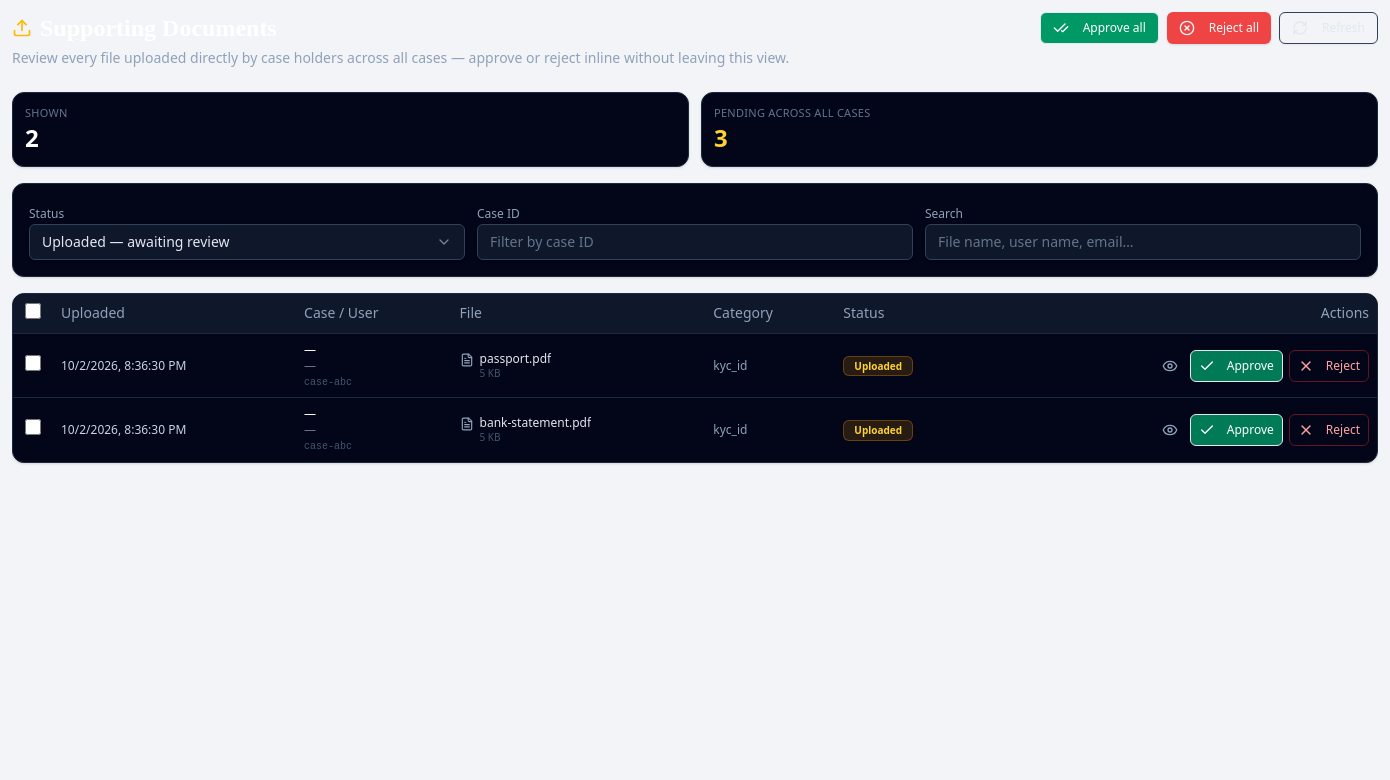
Test case: SupportingDocumentsTab – bulk reject (Task #442) › succeeded rows show rejected status and failed rows remain uploaded after partial failure (Task #924)
Click the button with test id "button-bulk-reject-supporting-docs". click: (1219, 28)
box: [1167,12,1271,44]
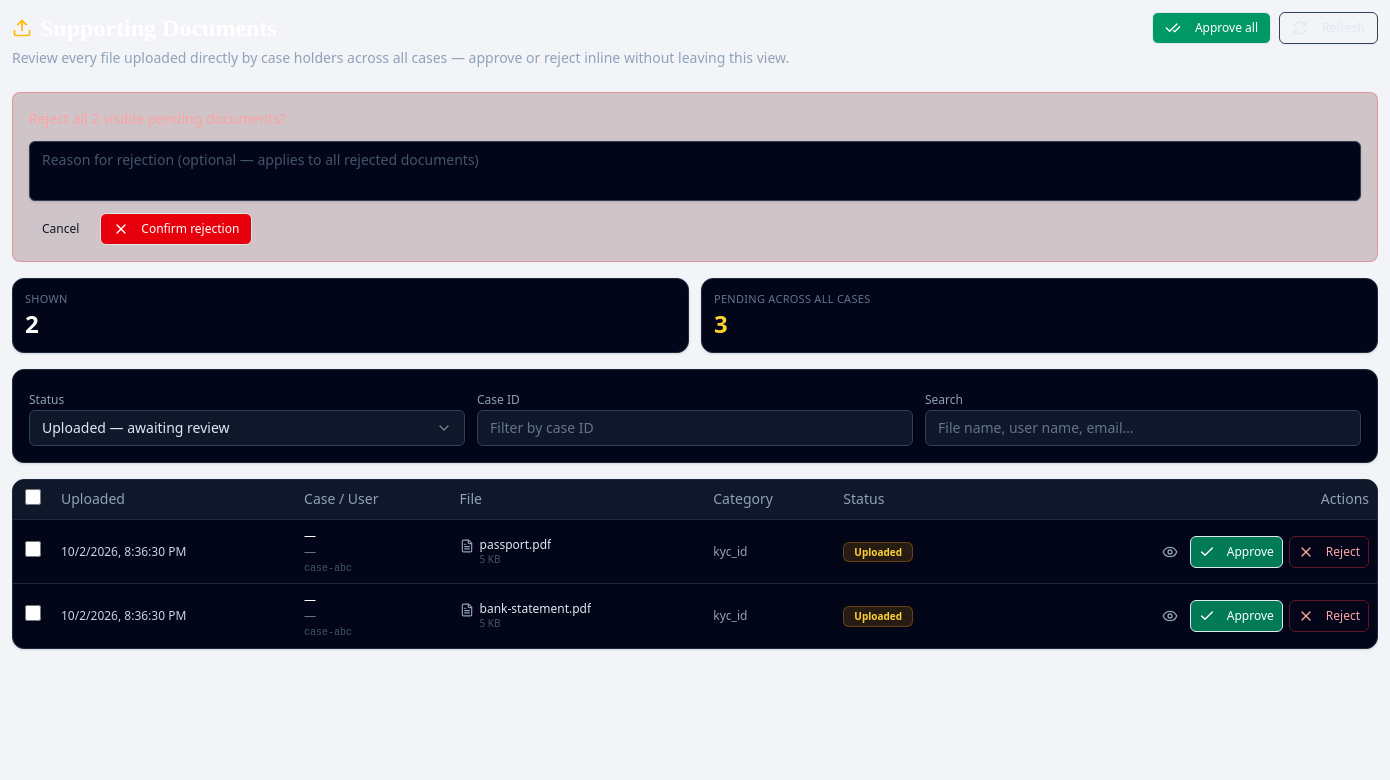
Click the button with test id "button-bulk-reject-confirm-supporting-docs". click: (176, 229)
box: [100,213,252,245]
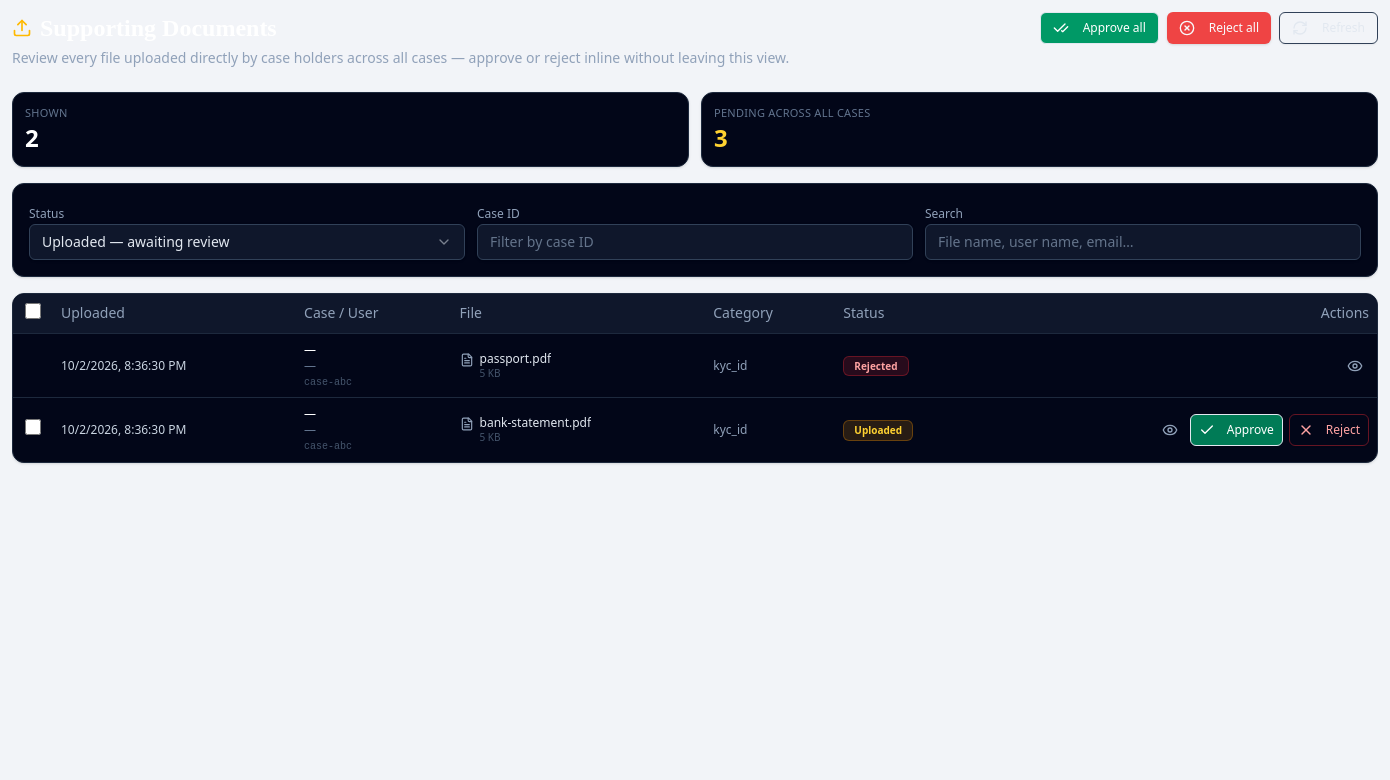
expect the row with test id "row-supporting-doc-11" shows "uploaded": met, box [854,423,902,437]
expect the row with test id "row-supporting-doc-10" shows "rejected": met, box [854,359,898,373]
